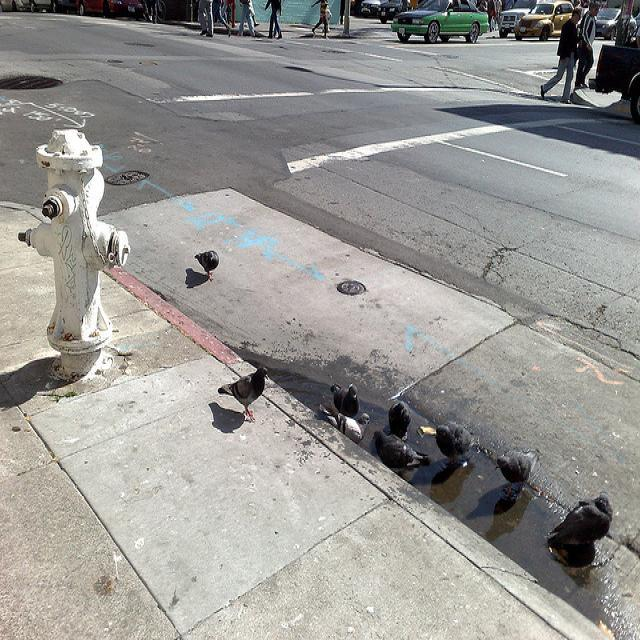fire_hydrant: (19, 125, 132, 376)
